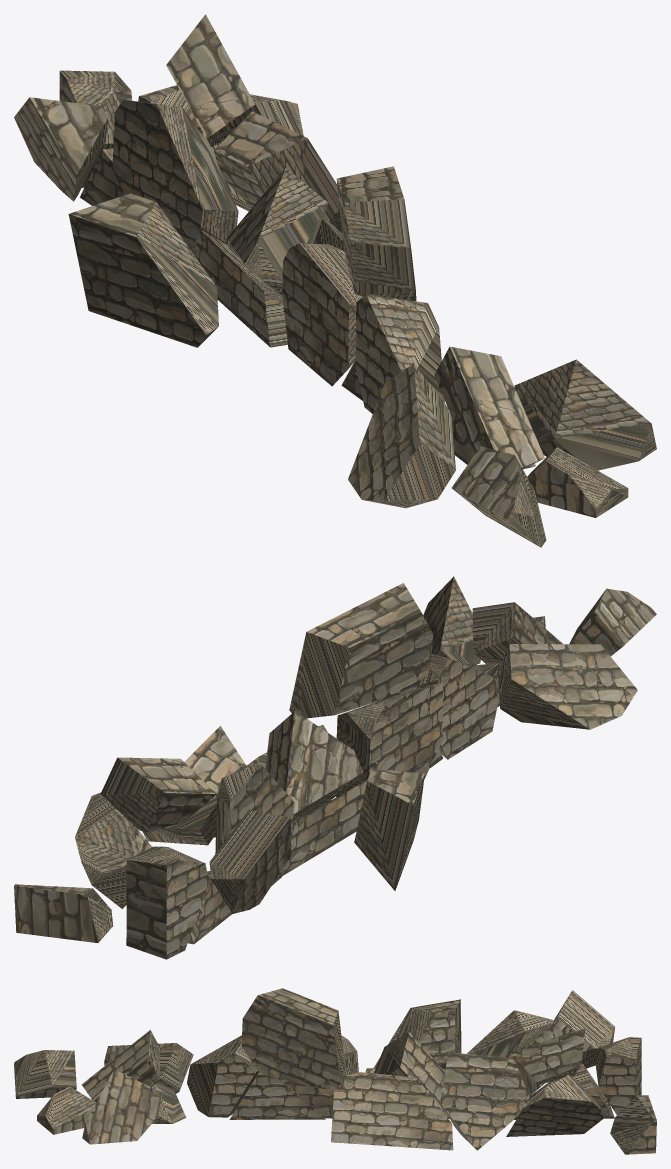
The model's file is BreakWallLarge_000011.obj.
3 renders of one model, top to bottom at view 1: azimuth 30°, elevation 25°; view 2: azimuth 150°, elevation 25°; view 3: azimuth 270°, elevation 25°, orthographic. The views are drawn at different scales.
Parts seen in each view (by area): view 1: Cube.057_cell.017_Cube.057_cell.016, Cube.057_cell.014_Cube.057_cell.013, Cube.057_cell.021_Cube.057_cell.020, Cube.057_cell.007_Cube.057_cell.006, Cube.057_cell.013_Cube.057_cell.012, Cube.057_cell.018_Cube.057_cell.017, Cube.057_cell.011_Cube.057_cell.010, Cube.057_cell.010_Cube.057_cell.009, Cube.057_cell.020_Cube.057_cell.019, Cube.057_cell_Cube.057_cell.022, Cube.057_cell.001_Cube.057_cell.000, Cube.057_cell.016_Cube.057_cell.015 (+7 smaller); view 2: Cube.057_cell.018_Cube.057_cell.017, Cube.057_cell.021_Cube.057_cell.020, Cube.057_cell.003_Cube.057_cell.002, Cube.057_cell.013_Cube.057_cell.012, Cube.057_cell_Cube.057_cell.022, Cube.057_cell.016_Cube.057_cell.015, Cube.057_cell.001_Cube.057_cell.000, Cube.057_cell.017_Cube.057_cell.016, Cube.057_cell.019_Cube.057_cell.018, Cube.057_cell.010_Cube.057_cell.009, Cube.057_cell.012_Cube.057_cell.011, Cube.057_cell.020_Cube.057_cell.019 (+6 smaller); view 3: Cube.057_cell.018_Cube.057_cell.017, Cube.057_cell.004_Cube.057_cell.003, Cube.057_cell.020_Cube.057_cell.019, Cube.057_cell.007_Cube.057_cell.006, Cube.057_cell.010_Cube.057_cell.009, Cube.057_cell.012_Cube.057_cell.011, Cube.057_cell.017_Cube.057_cell.016, Cube.057_cell.003_Cube.057_cell.002, Cube.057_cell.014_Cube.057_cell.013, Cube.057_cell.015_Cube.057_cell.014, Cube.057_cell.002_Cube.057_cell.001, Cube.057_cell.016_Cube.057_cell.015 (+9 smaller).
Boxes of the visible parts, x1=… form: Cube.057_cell.017_Cube.057_cell.016: x1=68, y1=193, x2=218, y2=347; Cube.057_cell.014_Cube.057_cell.013: x1=112, y1=99, x2=238, y2=253; Cube.057_cell.021_Cube.057_cell.020: x1=348, y1=363, x2=455, y2=508; Cube.057_cell.007_Cube.057_cell.006: x1=514, y1=359, x2=656, y2=470; Cube.057_cell.013_Cube.057_cell.012: x1=282, y1=243, x2=362, y2=386; Cube.057_cell.018_Cube.057_cell.017: x1=336, y1=166, x2=416, y2=301; Cube.057_cell.011_Cube.057_cell.010: x1=434, y1=346, x2=544, y2=468; Cube.057_cell.010_Cube.057_cell.009: x1=355, y1=294, x2=444, y2=413; Cube.057_cell.020_Cube.057_cell.019: x1=213, y1=111, x2=342, y2=233; Cube.057_cell_Cube.057_cell.022: x1=226, y1=167, x2=328, y2=295; Cube.057_cell.001_Cube.057_cell.000: x1=14, y1=97, x2=108, y2=201; Cube.057_cell.016_Cube.057_cell.015: x1=166, y1=14, x2=261, y2=146; Cube.057_cell.018_Cube.057_cell.017: x1=289, y1=583, x2=432, y2=718; Cube.057_cell.021_Cube.057_cell.020: x1=498, y1=644, x2=637, y2=729; Cube.057_cell.003_Cube.057_cell.002: x1=126, y1=846, x2=208, y2=959; Cube.057_cell.013_Cube.057_cell.012: x1=336, y1=682, x2=442, y2=796; Cube.057_cell_Cube.057_cell.022: x1=265, y1=711, x2=363, y2=821; Cube.057_cell.016_Cube.057_cell.015: x1=100, y1=757, x2=216, y2=832; Cube.057_cell.001_Cube.057_cell.000: x1=209, y1=809, x2=291, y2=913; Cube.057_cell.017_Cube.057_cell.016: x1=354, y1=769, x2=424, y2=890; Cube.057_cell.019_Cube.057_cell.018: x1=14, y1=884, x2=113, y2=942; Cube.057_cell.010_Cube.057_cell.009: x1=413, y1=654, x2=497, y2=759; Cube.057_cell.012_Cube.057_cell.011: x1=75, y1=792, x2=151, y2=908; Cube.057_cell.020_Cube.057_cell.019: x1=142, y1=726, x2=247, y2=845; Cube.057_cell.018_Cube.057_cell.017: x1=241, y1=988, x2=344, y2=1090; Cube.057_cell.004_Cube.057_cell.003: x1=331, y1=1072, x2=453, y2=1150; Cube.057_cell.020_Cube.057_cell.019: x1=440, y1=1052, x2=529, y2=1150; Cube.057_cell.007_Cube.057_cell.006: x1=82, y1=1069, x2=162, y2=1144; Cube.057_cell.010_Cube.057_cell.009: x1=187, y1=1035, x2=259, y2=1117; Cube.057_cell.012_Cube.057_cell.011: x1=506, y1=1075, x2=603, y2=1136; Cube.057_cell.017_Cube.057_cell.016: x1=373, y1=999, x2=461, y2=1069; Cube.057_cell.003_Cube.057_cell.002: x1=595, y1=1037, x2=641, y2=1114; Cube.057_cell.014_Cube.057_cell.013: x1=467, y1=1010, x2=561, y2=1096; Cube.057_cell.015_Cube.057_cell.014: x1=14, y1=1050, x2=76, y2=1098; Cube.057_cell.002_Cube.057_cell.001: x1=229, y1=1072, x2=325, y2=1119; Cube.057_cell.016_Cube.057_cell.015: x1=509, y1=1028, x2=585, y2=1084.
Bounding box in the file's own units: 23.53 × 14.45 × 69.5.
Materials: 2 (2 with a texture image).
